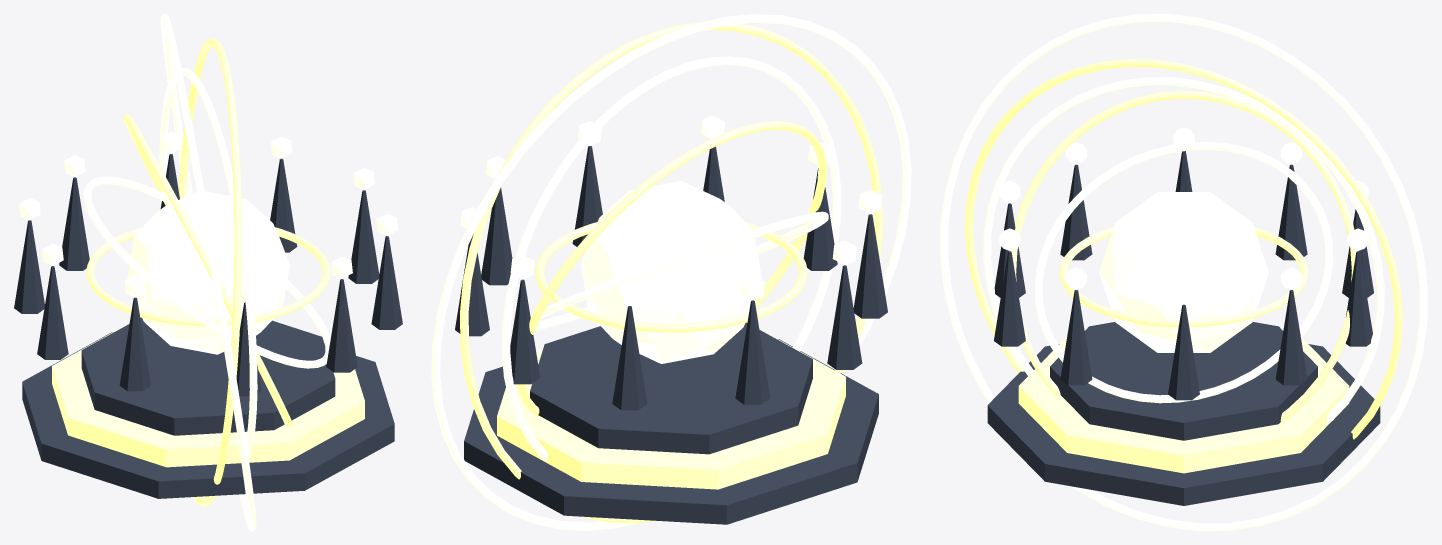
Rendered from gpu-blender-v39.glb.
3 views of the same model, side by side, from view 1: azimuth 30°, elevation 25°; view 2: azimuth 150°, elevation 25°; view 3: azimuth 270°, elevation 25° (orthographic). The views are drawn at different scales.
Visible parts, largest first — view 1: Cylinder.002, Cylinder, SovereignCore_zoth-bounty, Cylinder.001, Torus.005, Torus.004, Torus.001, Torus.003, Torus, Torus.002, Cone.006, Cone.008 (+7 smaller); view 2: Cylinder.002, SovereignCore_zoth-bounty, Cylinder, Cylinder.001, Torus.005, Torus.003, Torus.004, Torus.002, Torus, Torus.001, Cone.003, Cone.004 (+8 smaller); view 3: SovereignCore_zoth-bounty, Cylinder.002, Cylinder, Cylinder.001, Torus.005, Torus.004, Torus.003, Torus.001, Torus.002, Torus, Cone, Cone.001 (+7 smaller).
Part boxes in pixels (x1=…): Cylinder.002: x1=81, y1=317, x2=335, y2=435; Cylinder: x1=22, y1=332, x2=394, y2=498; SovereignCore_zoth-bounty: x1=127, y1=191, x2=289, y2=354; Cylinder.001: x1=52, y1=324, x2=364, y2=467; Torus.005: x1=160, y1=14, x2=256, y2=530; Torus.004: x1=178, y1=38, x2=241, y2=506; Torus.001: x1=83, y1=176, x2=330, y2=368; Torus.003: x1=159, y1=68, x2=257, y2=458; Torus: x1=86, y1=227, x2=330, y2=326; Torus.002: x1=123, y1=114, x2=292, y2=425; Cone.006: x1=119, y1=297, x2=150, y2=391; Cone.008: x1=326, y1=279, x2=357, y2=372; Cylinder.002: x1=530, y1=322, x2=812, y2=454; SovereignCore_zoth-bounty: x1=581, y1=181, x2=761, y2=363; Cylinder: x1=464, y1=339, x2=878, y2=524; Cylinder.001: x1=497, y1=330, x2=845, y2=489; Torus.005: x1=431, y1=14, x2=911, y2=530; Torus.003: x1=501, y1=56, x2=841, y2=461; Torus.004: x1=460, y1=22, x2=882, y2=523; Torus.002: x1=517, y1=121, x2=826, y2=415; Torus: x1=535, y1=222, x2=807, y2=332; Torus.001: x1=530, y1=211, x2=828, y2=330; Cone.003: x1=612, y1=306, x2=647, y2=410; Cone.004: x1=735, y1=300, x2=770, y2=404; SovereignCore_zoth-bounty: x1=1099, y1=192, x2=1268, y2=352; Cylinder.002: x1=1050, y1=322, x2=1317, y2=440; Cylinder: x1=987, y1=344, x2=1380, y2=505; Cylinder.001: x1=1018, y1=336, x2=1349, y2=473; Torus.005: x1=940, y1=14, x2=1427, y2=530; Torus.004: x1=965, y1=59, x2=1402, y2=439; Torus.003: x1=983, y1=77, x2=1384, y2=423; Torus.001: x1=1034, y1=141, x2=1333, y2=403; Torus.002: x1=1010, y1=90, x2=1357, y2=423; Torus: x1=1059, y1=227, x2=1308, y2=327; Cone: x1=1168, y1=304, x2=1199, y2=400; Cone.001: x1=1275, y1=290, x2=1307, y2=385.
Bounding box in the file's own units: 4.41 × 5.93 × 5.46.
